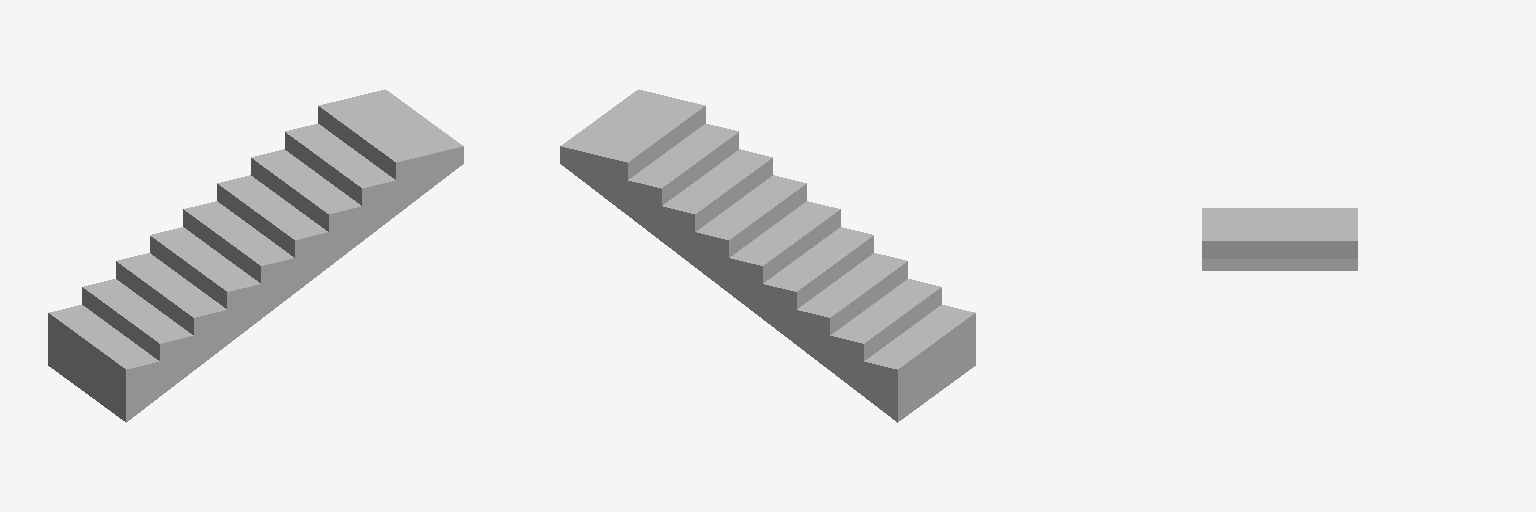
The model's file is Stairs (70).obj.
The picture shows the model from 3 angles: view 1: azimuth 30°, elevation 25°; view 2: azimuth 150°, elevation 25°; view 3: azimuth 270°, elevation 25°; orthographic projection.
Visible parts, largest first — view 1: Stairs (70); view 2: Stairs (70); view 3: Stairs (70).
Boxes of the visible parts, x1=… form: Stairs (70): x1=48, y1=89, x2=463, y2=422; Stairs (70): x1=560, y1=89, x2=975, y2=422; Stairs (70): x1=1202, y1=208, x2=1357, y2=270.
Size of the model in its own units: 5 by 2.75 by 2.